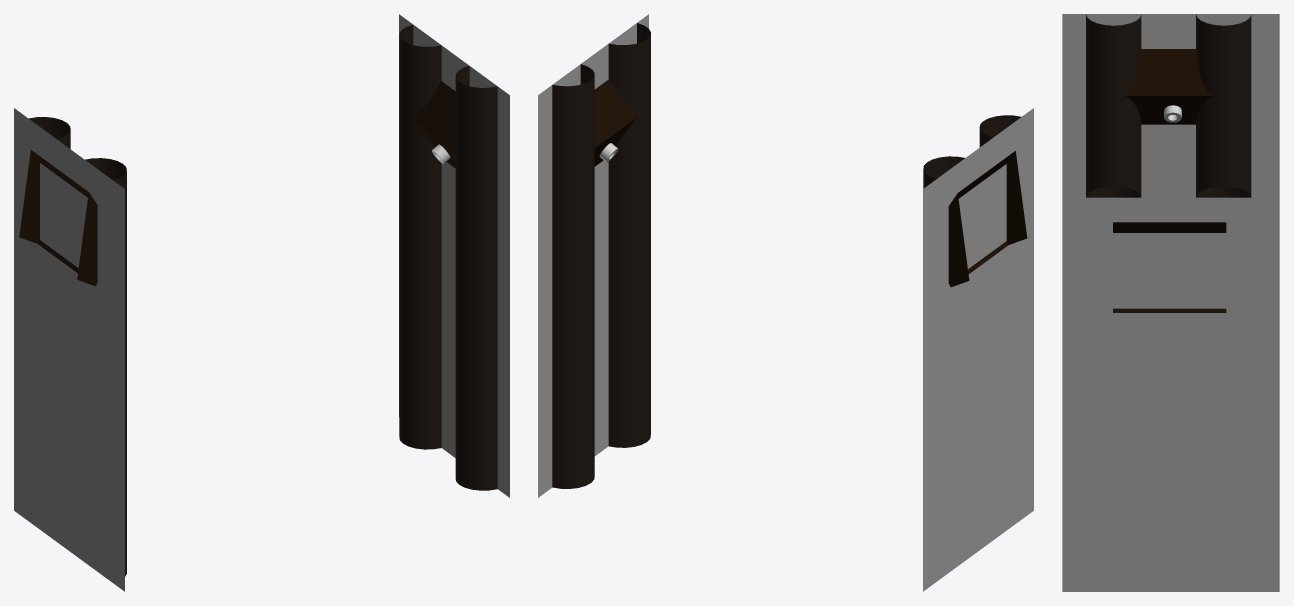
File: trap_wall_fire_2.fbx
3 renders of one model, left to right at view 1: azimuth 30°, elevation 25°; view 2: azimuth 150°, elevation 25°; view 3: azimuth 270°, elevation 25°, orthographic. The views are drawn at different scales.
Parts seen in each view (by area): view 1: polySurface5, polySurface1; view 2: polySurface5, polySurface1; view 3: polySurface5, polySurface1.
Part boxes in pixels (x1,y1,x2,y2): polySurface5: (14, 14, 509, 591); polySurface1: (19, 81, 455, 286); polySurface5: (538, 14, 1033, 591); polySurface1: (594, 79, 1027, 287); polySurface5: (1062, 14, 1279, 591); polySurface1: (1113, 49, 1226, 312).
Bounding box in the file's own units: 886 × 800 × 400.
